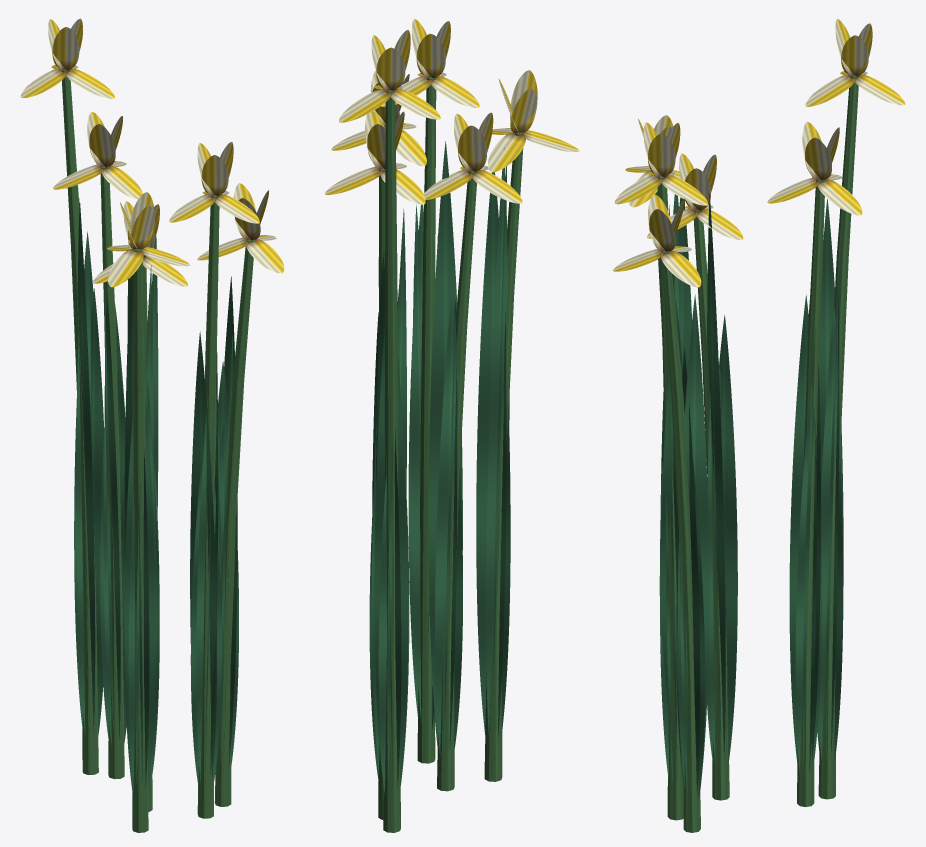
Rendered from swamp_iris_v02.fbx.
The picture shows the model from 3 angles, left to right: view 1: azimuth 30°, elevation 25°; view 2: azimuth 150°, elevation 25°; view 3: azimuth 270°, elevation 25°; orthographic projection. The views are drawn at different scales.
Parts seen in each view (by area): view 1: swamp_iris_v02; view 2: swamp_iris_v02; view 3: swamp_iris_v02.
Boxes of the visible parts, <box> form: swamp_iris_v02: <box>20,18,284,832</box>; swamp_iris_v02: <box>324,19,579,832</box>; swamp_iris_v02: <box>613,19,905,832</box>.
Bounding box in the file's own units: 22.08 × 27.13 × 75.71.
Materials: 3 (3 with a texture image).
